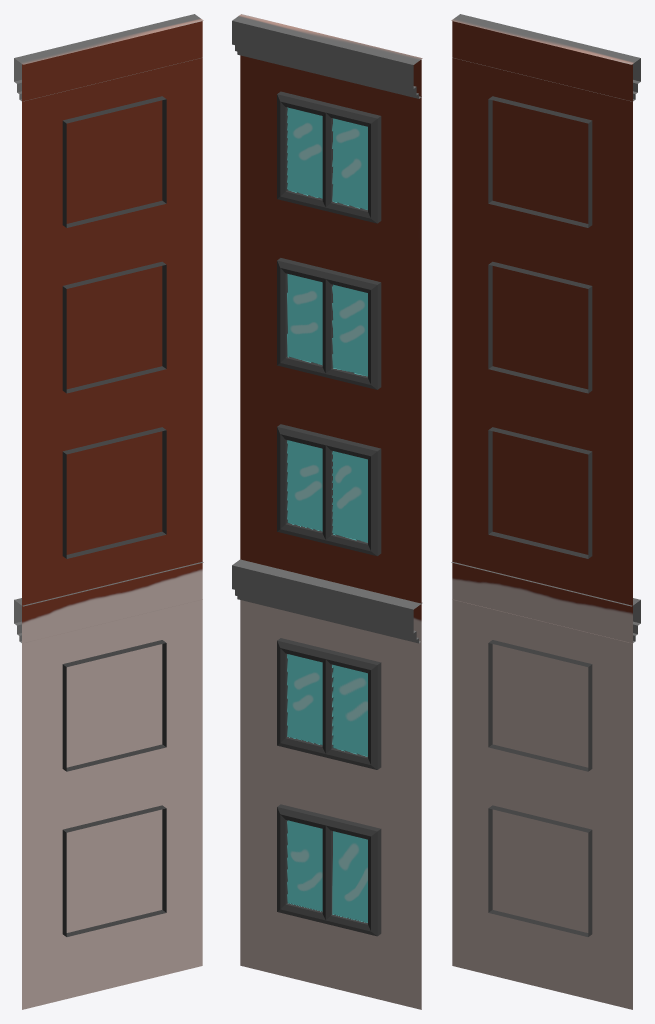
File: SM_BuildingWallWithoutDoor.fbx
The picture shows the model from 3 angles, left to right: view 1: azimuth 30°, elevation 25°; view 2: azimuth 150°, elevation 25°; view 3: azimuth 330°, elevation 25°; orthographic projection.
Parts seen in each view (by area): view 1: SM_Window10; view 2: SM_Window10; view 3: SM_Window10.
Part boxes in pixels (bbox=[...]): SM_Window10: bbox=[14, 14, 203, 1009]; SM_Window10: bbox=[232, 14, 422, 1009]; SM_Window10: bbox=[451, 14, 640, 1009].
Size of the model in its own units: 400 by 2001 by 47.16.
Materials: 1 (1 with a texture image).
